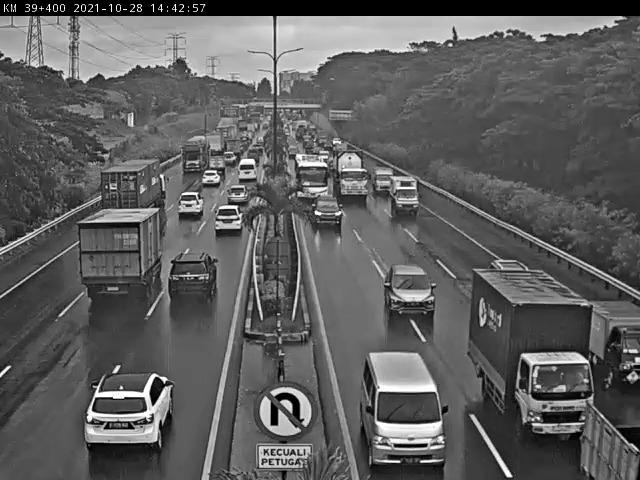big bus: (293, 154, 332, 209)
big truck: (79, 207, 168, 301), (101, 158, 172, 229), (332, 146, 372, 203)
car: (361, 350, 450, 472), (83, 369, 176, 451), (384, 265, 437, 319), (166, 252, 220, 300), (311, 196, 343, 234), (216, 203, 245, 235), (178, 189, 205, 217), (227, 182, 246, 201), (203, 170, 222, 187)
small truck: (467, 268, 596, 446), (390, 175, 421, 218), (374, 167, 397, 200)
